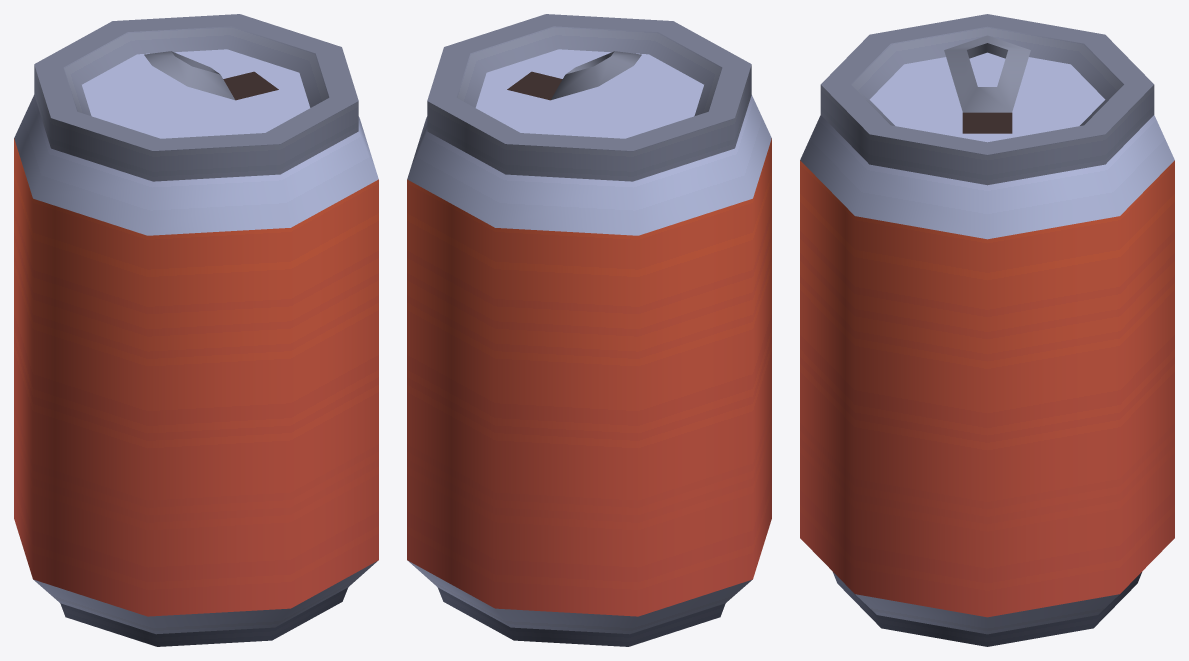
File: soda-can.glb
3 renders of one model, left to right at view 1: azimuth 30°, elevation 25°; view 2: azimuth 150°, elevation 25°; view 3: azimuth 270°, elevation 25°, orthographic.
Parts seen in each view (by area): view 1: soda-can; view 2: soda-can; view 3: soda-can.
Boxes of the visible parts, x1,y1,x2,y2 form: soda-can: (14,14,378,646); soda-can: (407,14,771,646); soda-can: (800,14,1174,646).
Size of the model in its own units: 0.0899 by 0.1402 by 0.0899.
1 material, 1 textured.
